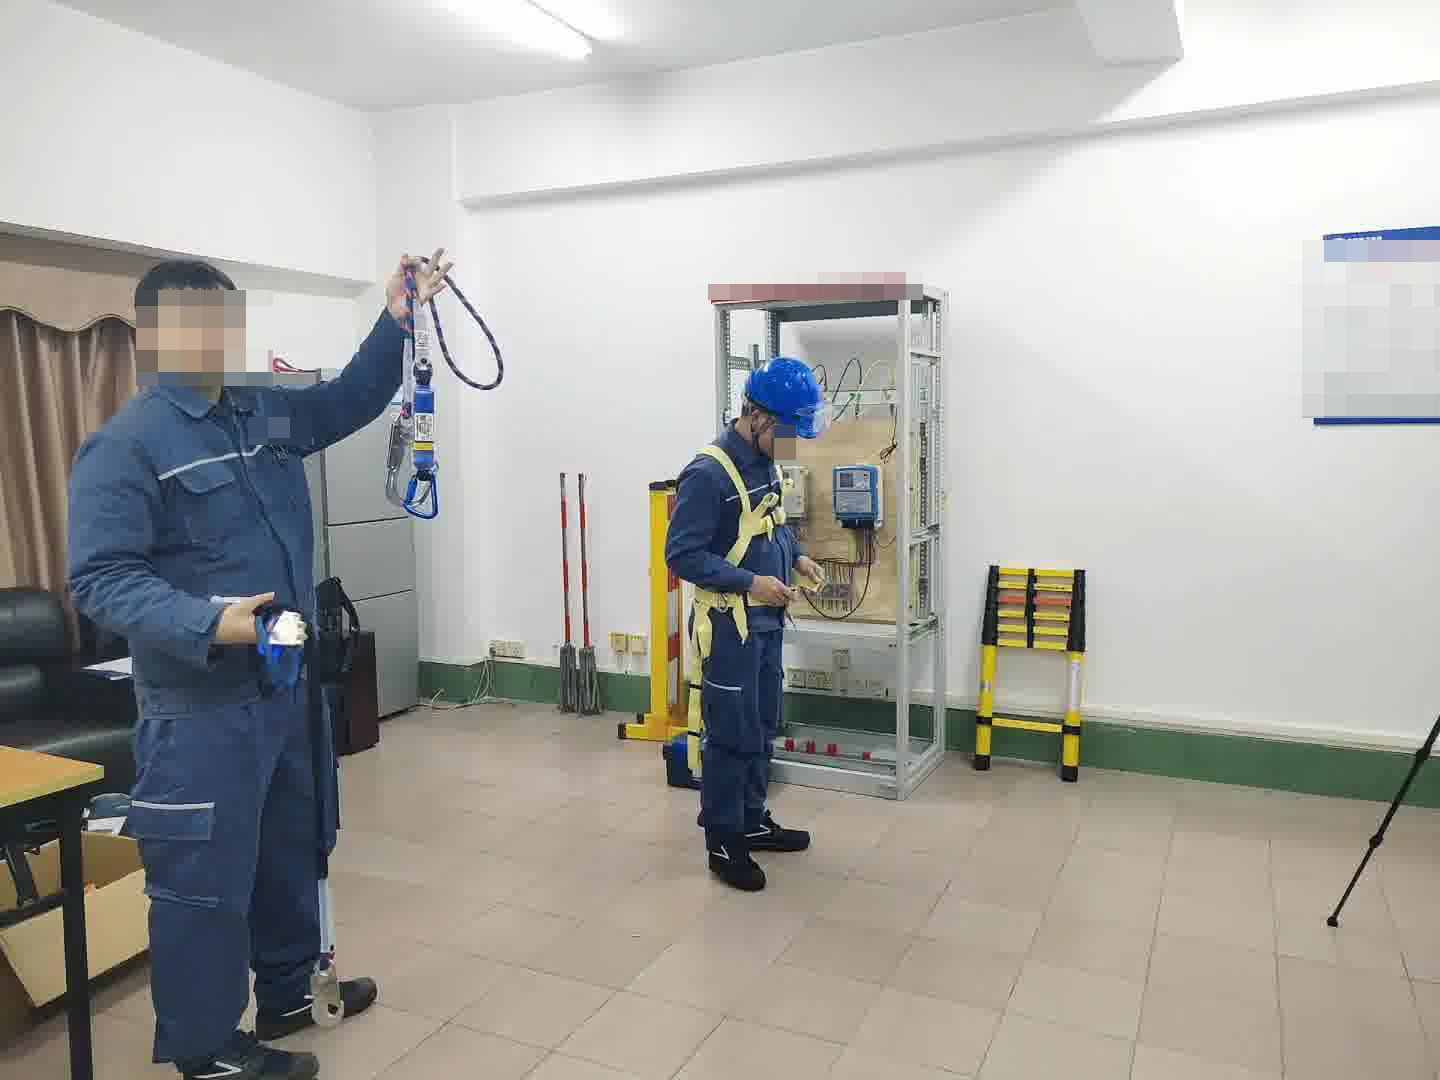downsuit: (128, 675, 339, 1065), (698, 616, 790, 844)
halt: (740, 356, 824, 449)
hand: (382, 247, 453, 319), (214, 588, 275, 646), (747, 567, 790, 613), (794, 544, 827, 590)
inear: (745, 402, 774, 450)
noear: (135, 313, 184, 365)
person: (60, 243, 459, 1080), (664, 356, 831, 895)
safebelt: (684, 434, 791, 772)
unhalt: (132, 254, 251, 386)
upsuit: (67, 306, 415, 667), (669, 428, 802, 612)
